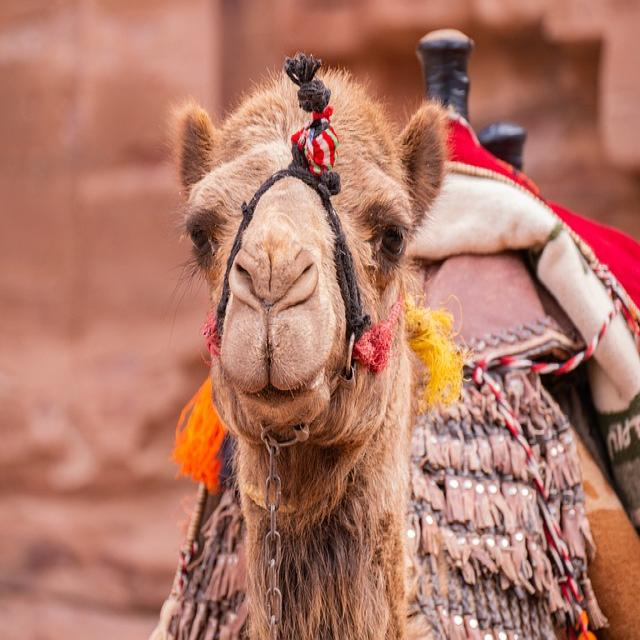Herbivorous: (149, 54, 640, 640)
